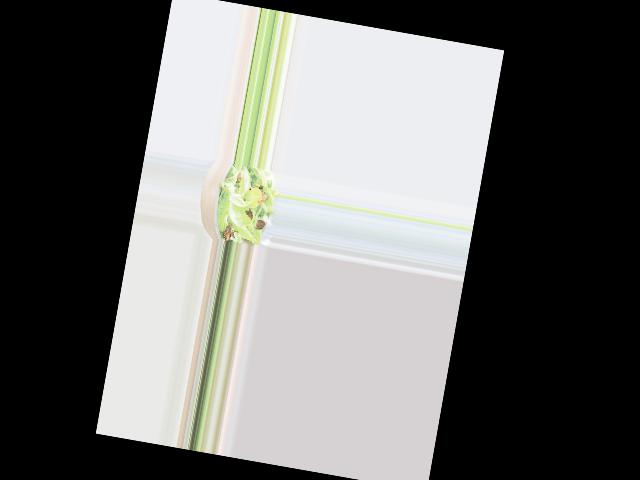lettuce: (212, 166, 277, 240)
